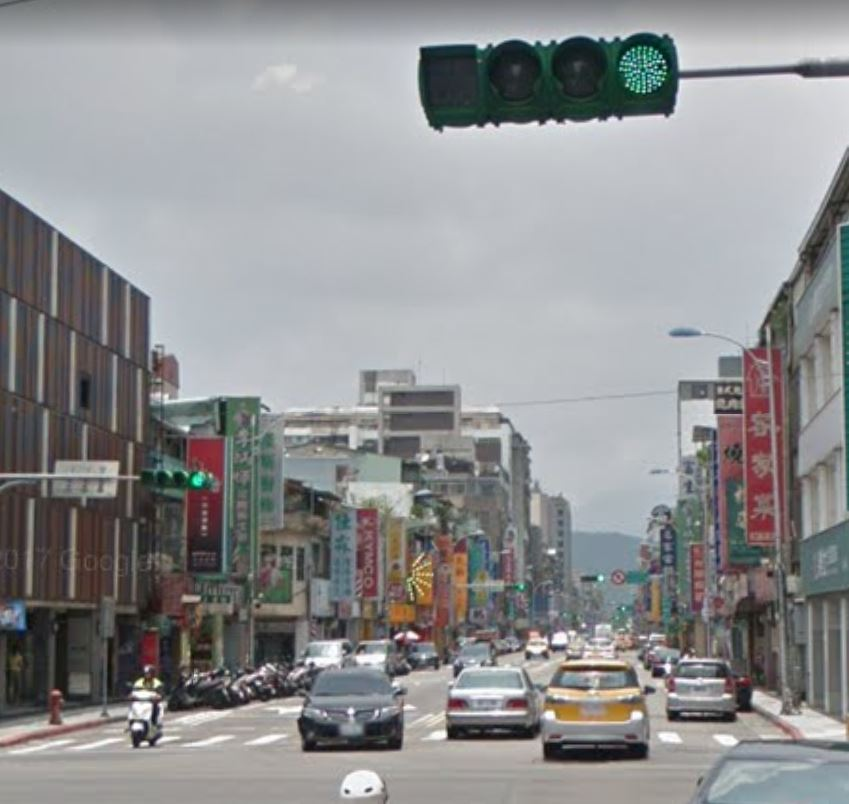Traffic_light_green: (415, 26, 684, 132), (137, 466, 221, 494)
car: (537, 654, 652, 764), (294, 662, 412, 755), (445, 662, 544, 738), (664, 654, 742, 724)
motorcycle: (124, 680, 167, 748)
